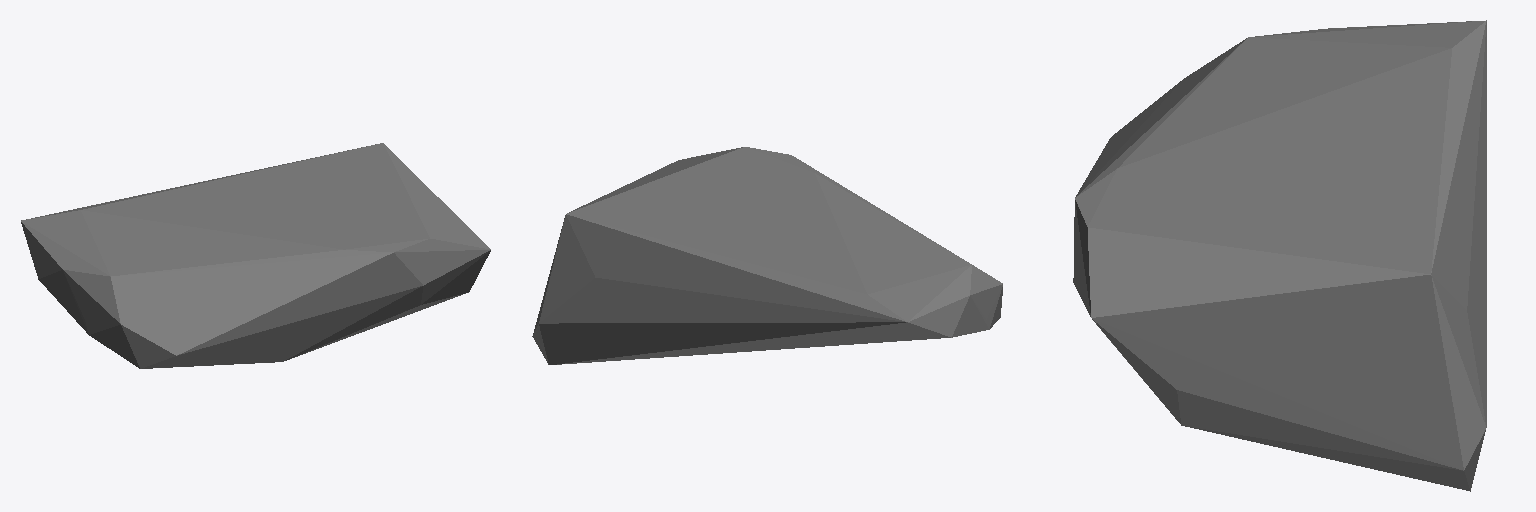
The robot description file, URDF, robot "40_586":
<?xml version="1.0"?>
<robot name="40_586">
  <link name="link">
    <contact>
      <lateral_friction value="0.6"/>
    </contact>
    <inertial>
      <mass value = "0.39832436693179635"/>
      <inertia ixx="0.00014659901274362448" ixy="9.878956744911697e-06" ixz="-2.1763825084878957e-05" iyy="0.0003449106595667357" iyz="-2.9911316168202904e-06" izz="0.00043214168401023103" />
    </inertial>
    <visual name="visual">
      <geometry>
        <mesh filename="40_586.obj"/>
      </geometry>
      <material name="material">
        <color rgba="0.5199574216148644 0.5199574216148644 0.5199574216148644 1.0"/>
      </material>
    </visual>
    <collision name="collision">
      <geometry>
        <mesh filename="40_586.obj"/>
      </geometry>
    </collision>
  </link>
</robot>

--- Facts derived from the render (not from the file) ---
The picture shows the robot from 3 angles, left to right: view 1: azimuth 30°, elevation 25°; view 2: azimuth 150°, elevation 25°; view 3: azimuth 270°, elevation 25°; orthographic projection.
Model 40_586 with 1 links and 0 joints (none), rooted at link, posed all joints at 0.
Visible links, largest first — view 1: link; view 2: link; view 3: link.
Boxes of the visible links, x1,y1,x2,y2 form: link: (21,143,490,368); link: (532,147,1002,364); link: (1073,20,1486,491).
Bounding box of the posed robot: 0.1141 × 0.0687 × 0.0394 m (x, y, z).
Meshes: 1 distinct files referenced, 1 mesh visuals loaded (1 OBJ).
